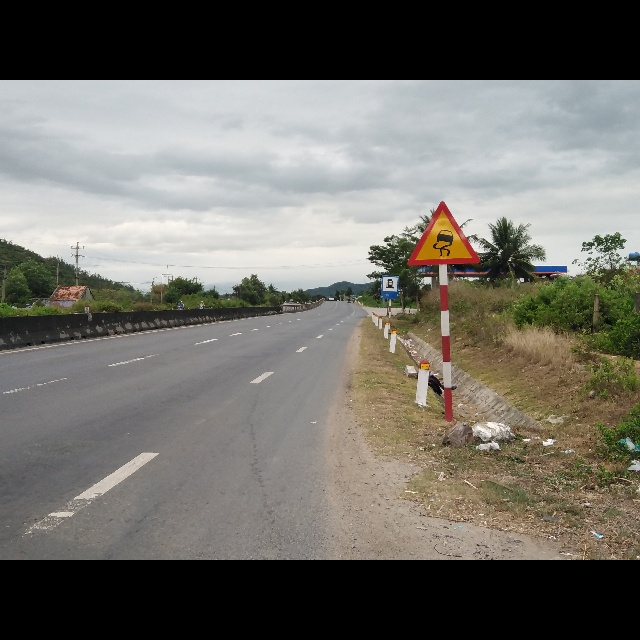Đường trơn trượt: (408, 199, 482, 267)
